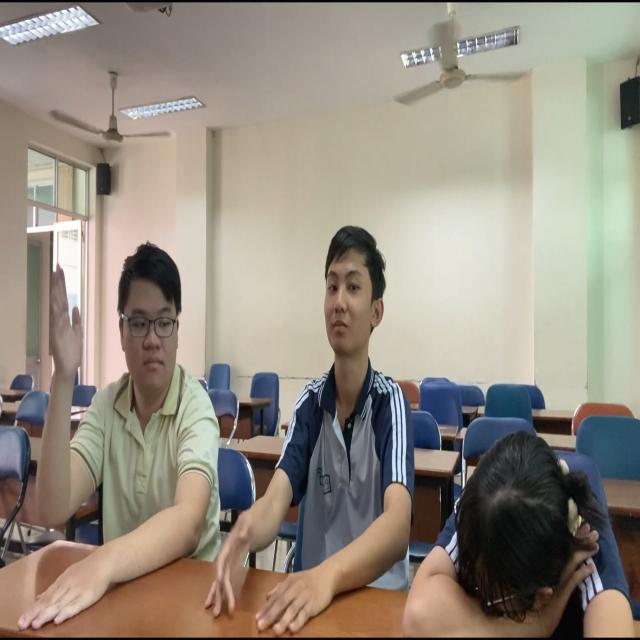raise_hand: (7, 224, 246, 640)
sleep: (373, 392, 638, 640)
